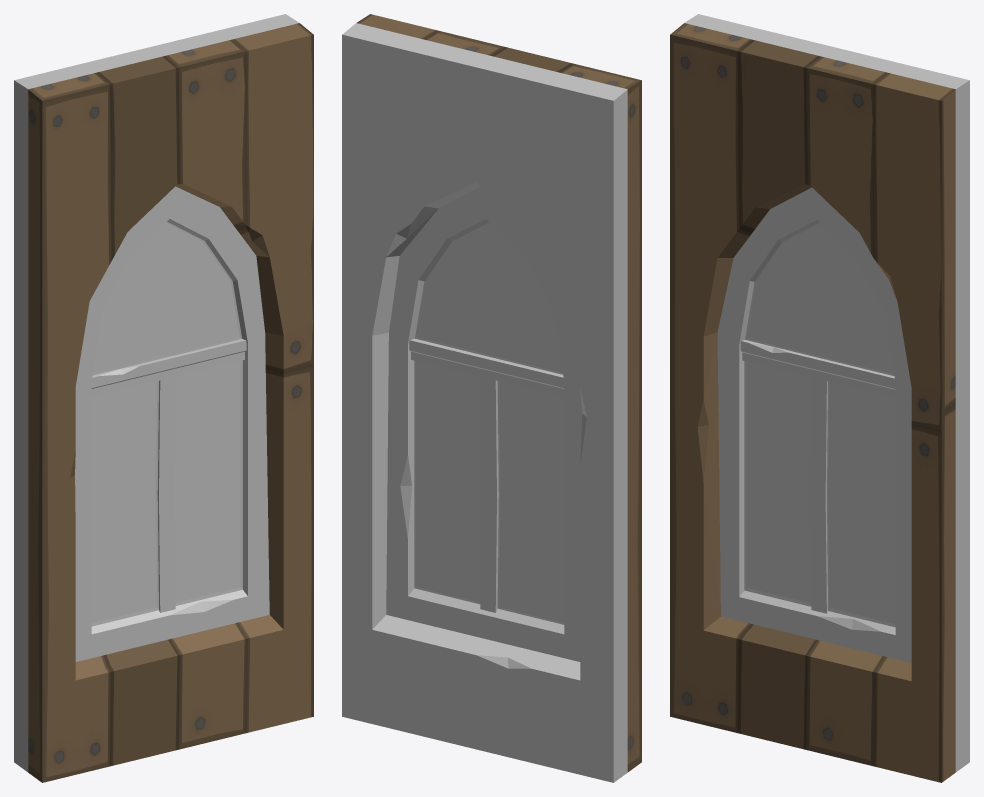
The model's file is SM_Bld_Deco_Wall_Window_03_Half_01.fbx.
The picture shows the model from 3 angles, left to right: view 1: azimuth 30°, elevation 25°; view 2: azimuth 150°, elevation 25°; view 3: azimuth 330°, elevation 25°; orthographic projection.
Visible parts, largest first — view 1: SM_Bld_Deco_Wall_Window_03_Half_01, SM_Bld_Deco_Wall_Window_03_Half_Glass_03; view 2: SM_Bld_Deco_Wall_Window_03_Half_01, SM_Bld_Deco_Wall_Window_03_Half_Glass_03; view 3: SM_Bld_Deco_Wall_Window_03_Half_01, SM_Bld_Deco_Wall_Window_03_Half_Glass_03.
Boxes of the visible parts, x1,y1,x2,y2 form: SM_Bld_Deco_Wall_Window_03_Half_01: (14,14,313,782); SM_Bld_Deco_Wall_Window_03_Half_Glass_03: (91,222,242,626); SM_Bld_Deco_Wall_Window_03_Half_01: (342,14,641,782); SM_Bld_Deco_Wall_Window_03_Half_Glass_03: (414,222,564,624); SM_Bld_Deco_Wall_Window_03_Half_01: (670,14,969,782); SM_Bld_Deco_Wall_Window_03_Half_Glass_03: (744,222,895,627).
Size of the model in its own units: 125 by 301 by 22.5.
